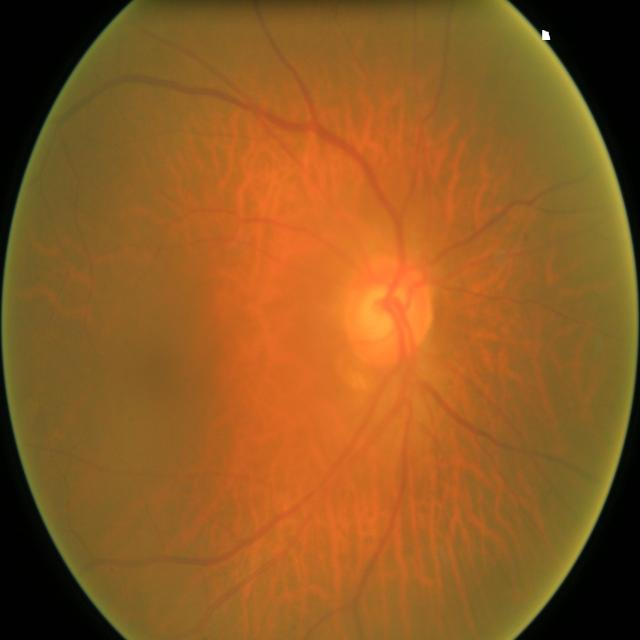OC: (358, 284, 412, 342)
OD: (340, 256, 432, 364)
